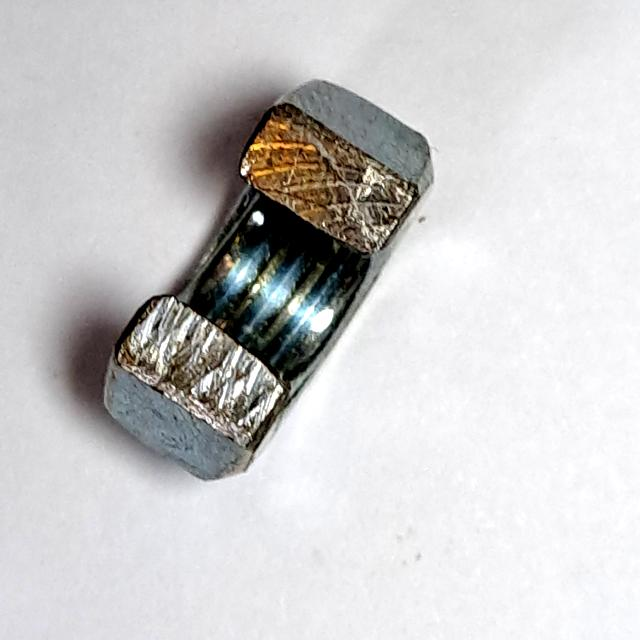Side-Fracture: (89, 72, 449, 491)
